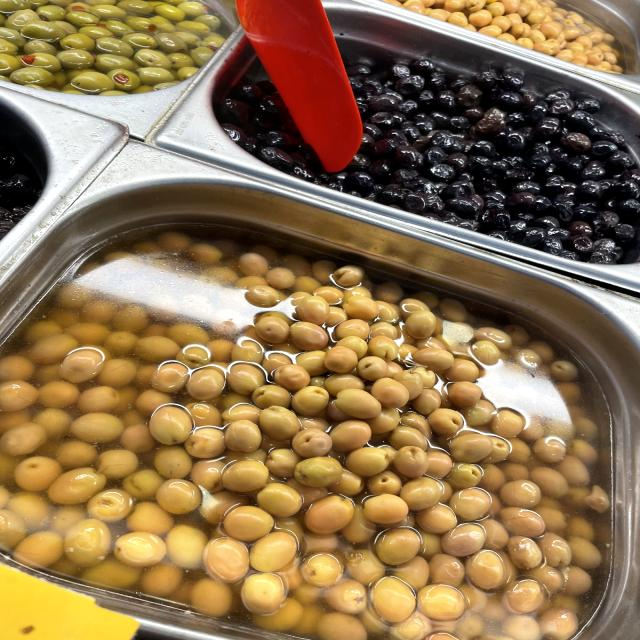olive: (504, 171, 607, 225), (396, 91, 501, 141), (422, 158, 462, 184)
